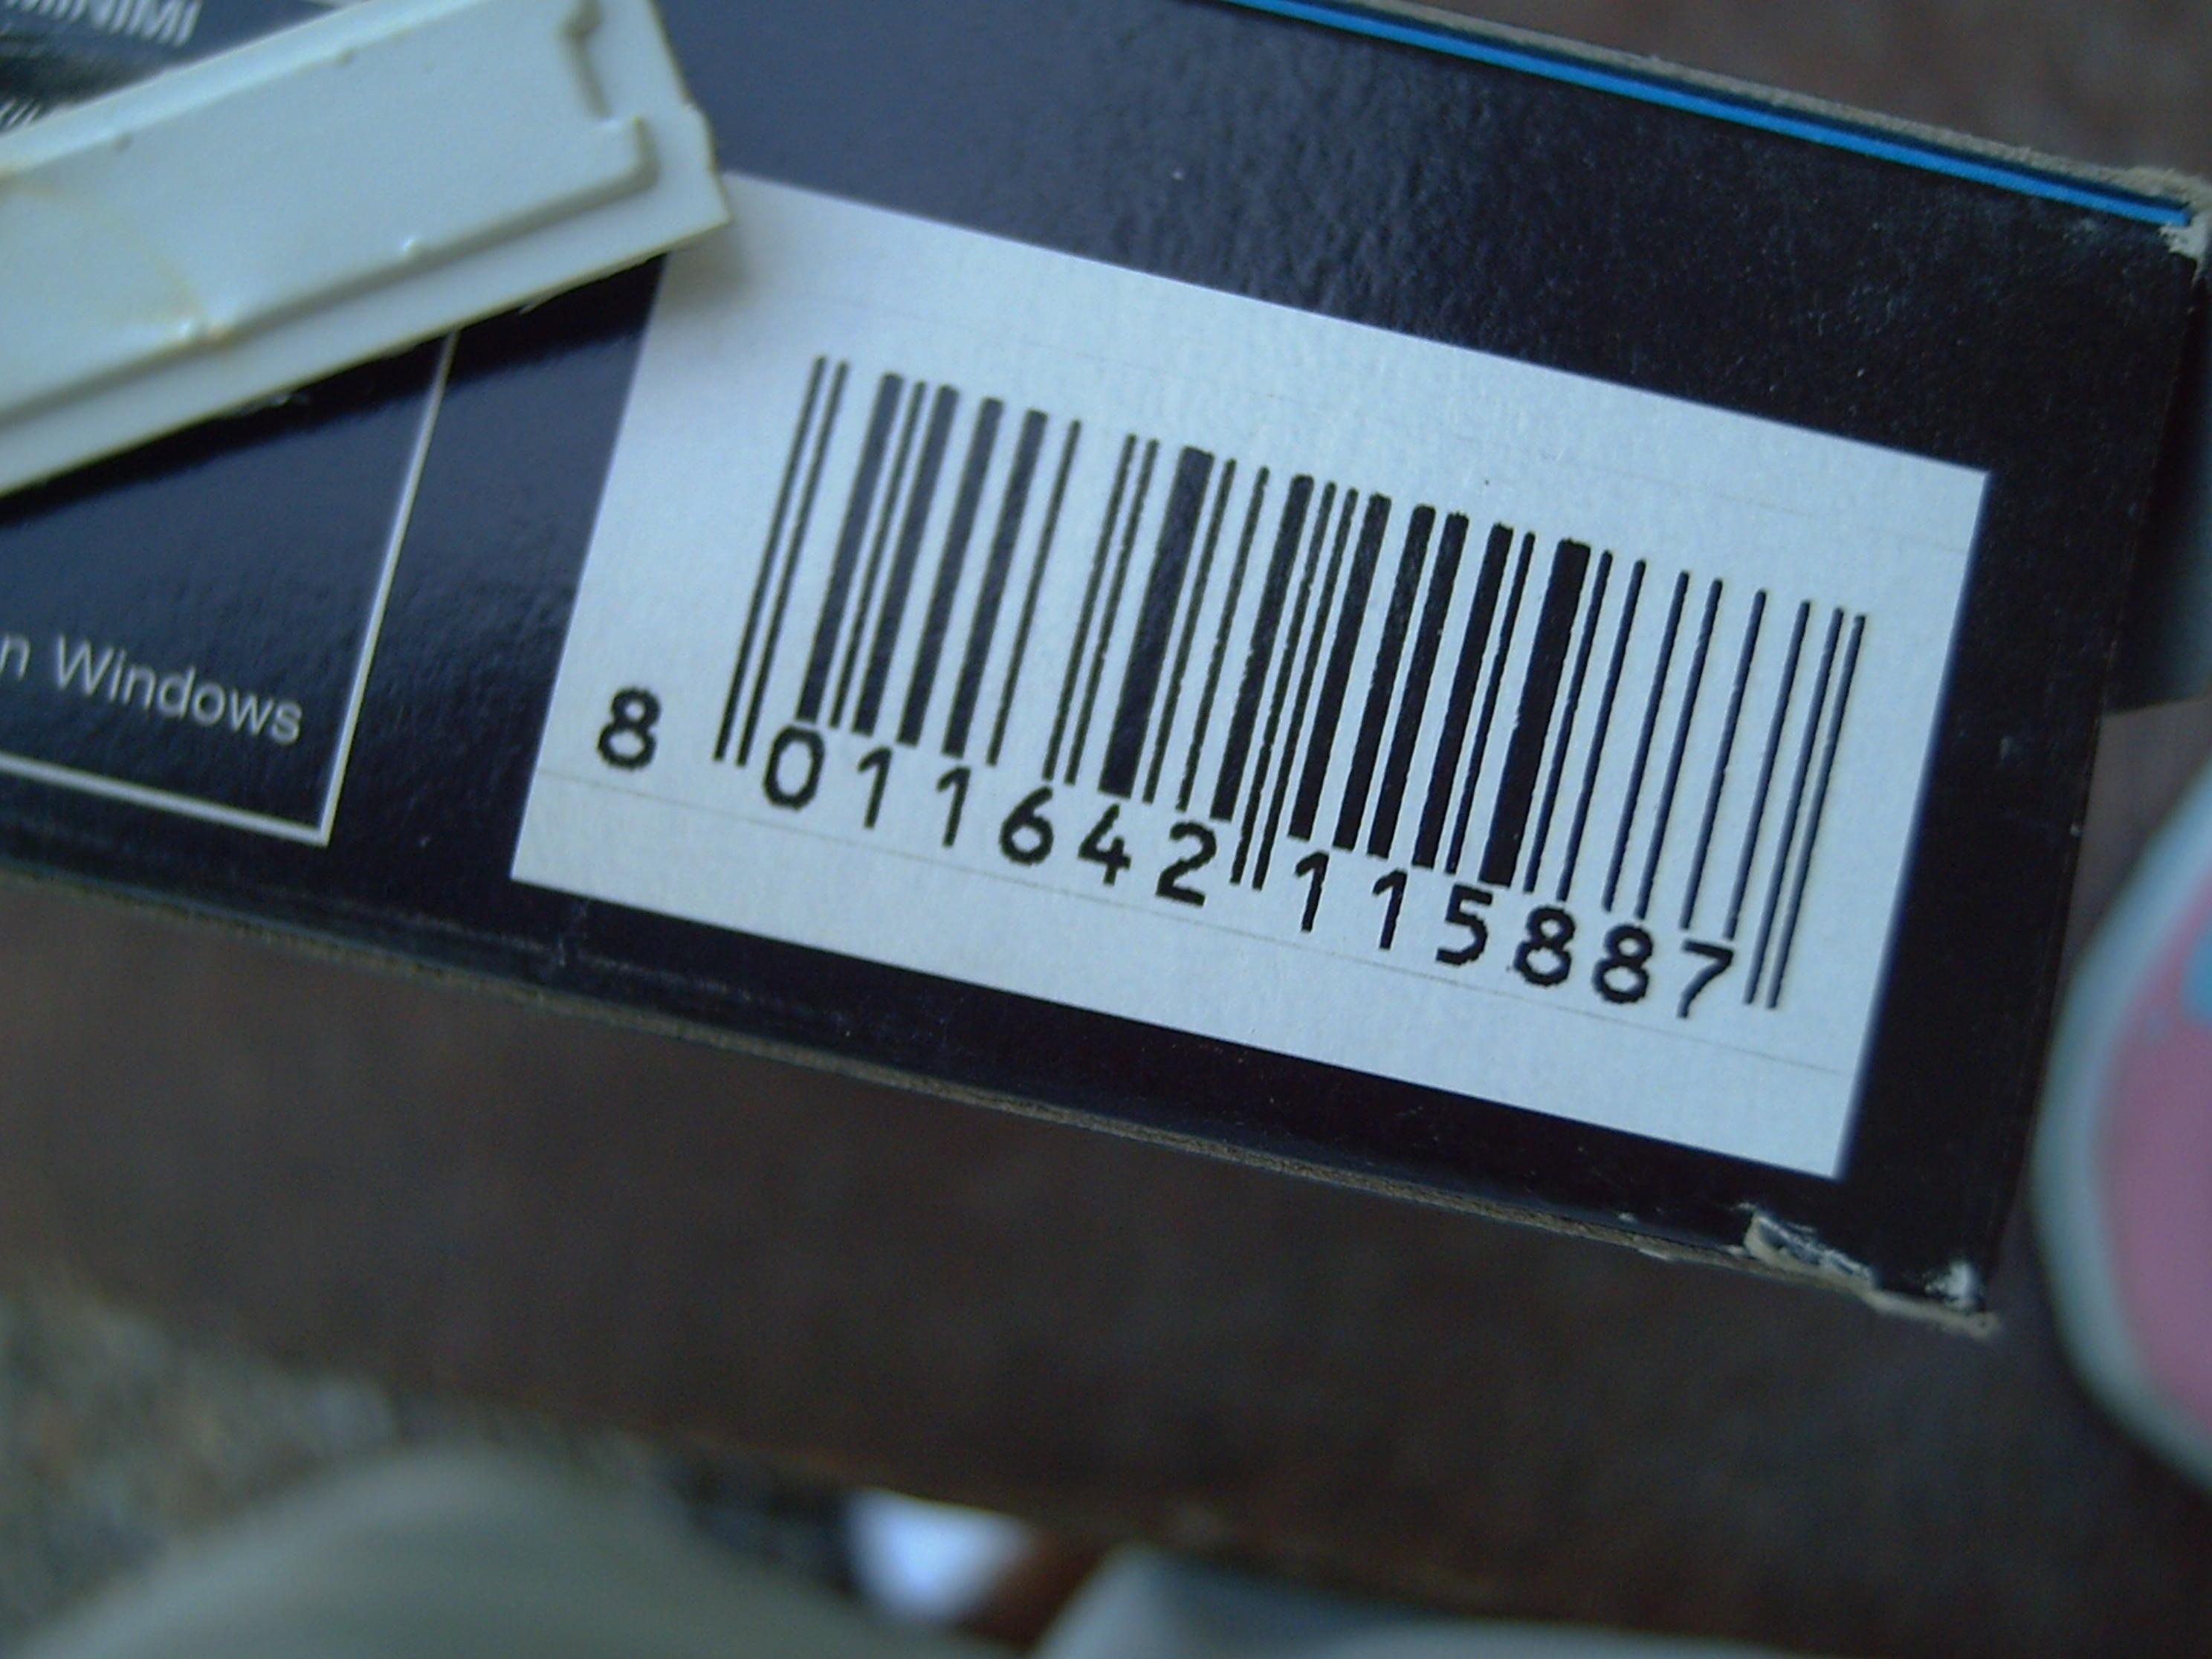barcode: (535, 242, 1970, 1075)
